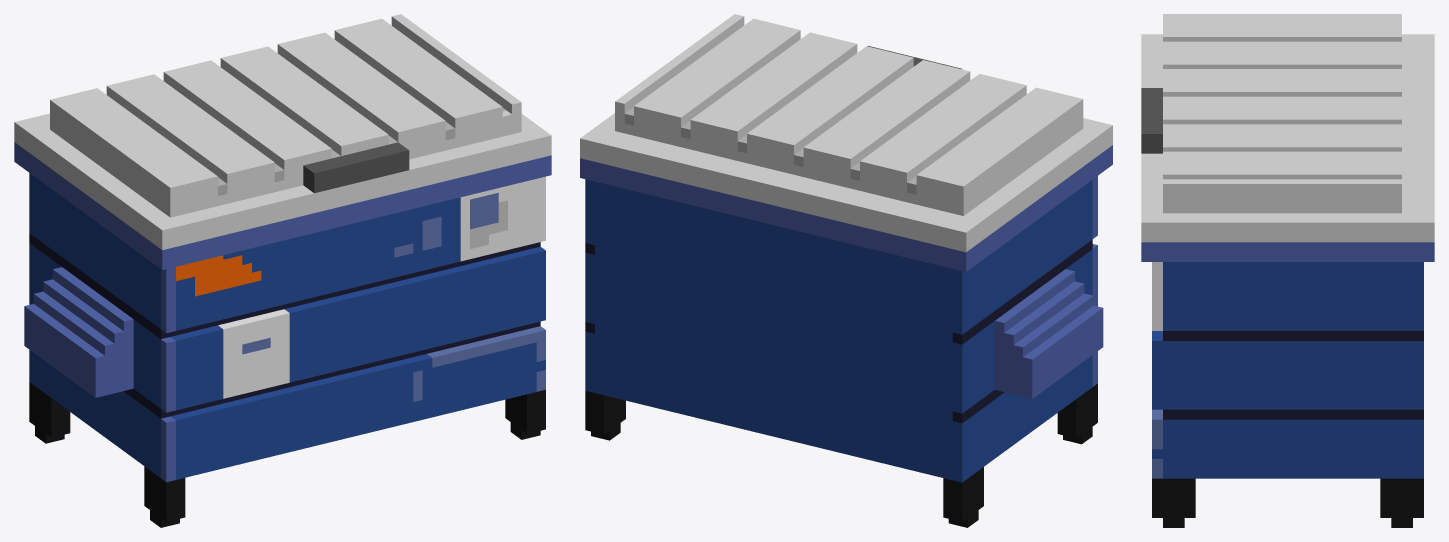
The model's file is waste basket.obj.
The picture shows the model from 3 angles, left to right: view 1: azimuth 30°, elevation 25°; view 2: azimuth 150°, elevation 25°; view 3: azimuth 270°, elevation 25°; orthographic projection.
Bounding box in the file's own units: 4.4 × 3.4 × 2.7.
1 material, 1 textured.
